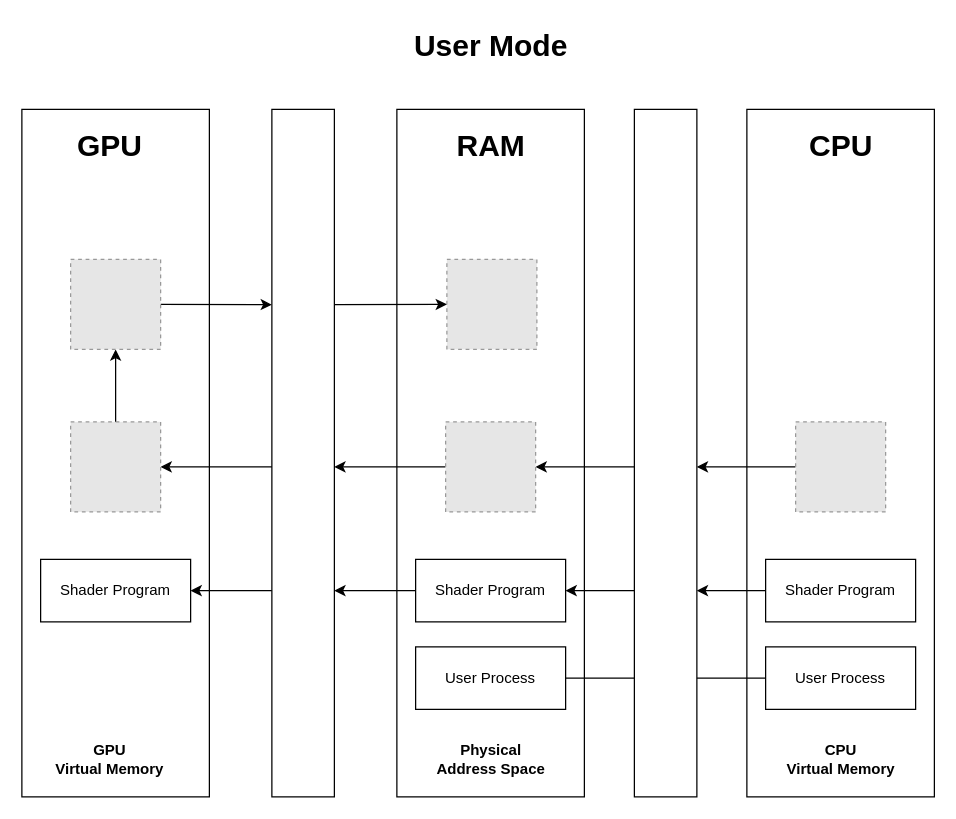
This 956x819 diagram has some shape labels left out. Grey dashed boxes stand in for pictures. Here are the shapes that lost their labels. From the top down, the centre of each, then its label:
the point at 302,452: GPU Page Table
the point at 665,452: CPU Page Table
